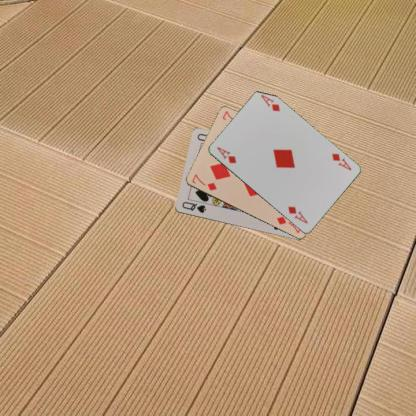7d: (189, 172, 218, 192)
Ad: (329, 150, 352, 172), (214, 144, 237, 165)
Qs: (179, 200, 208, 214)
